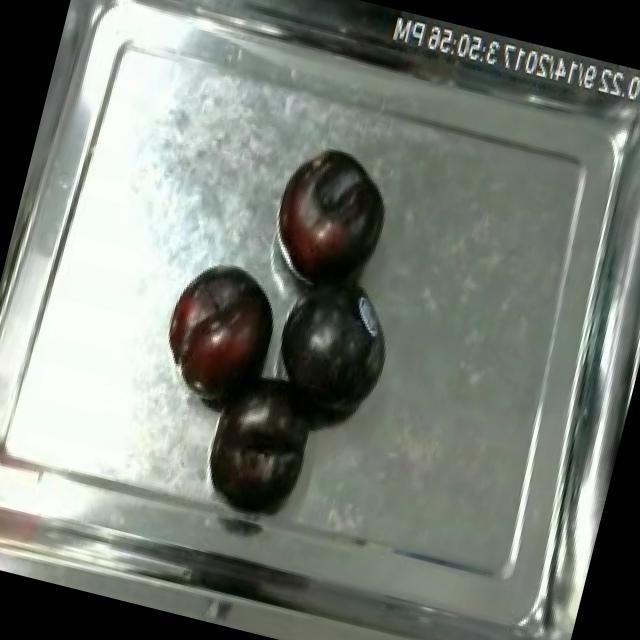Fruit: (146, 247, 290, 416), (257, 134, 401, 301), (270, 276, 401, 429)
